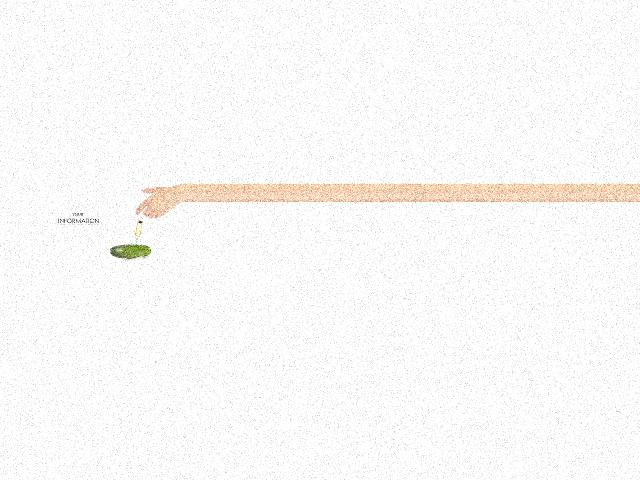cucumber: (110, 244, 152, 258)
